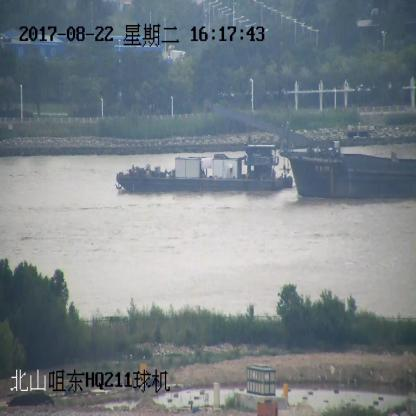Bulk Carrier: (208, 99, 415, 202), (116, 139, 292, 194)
